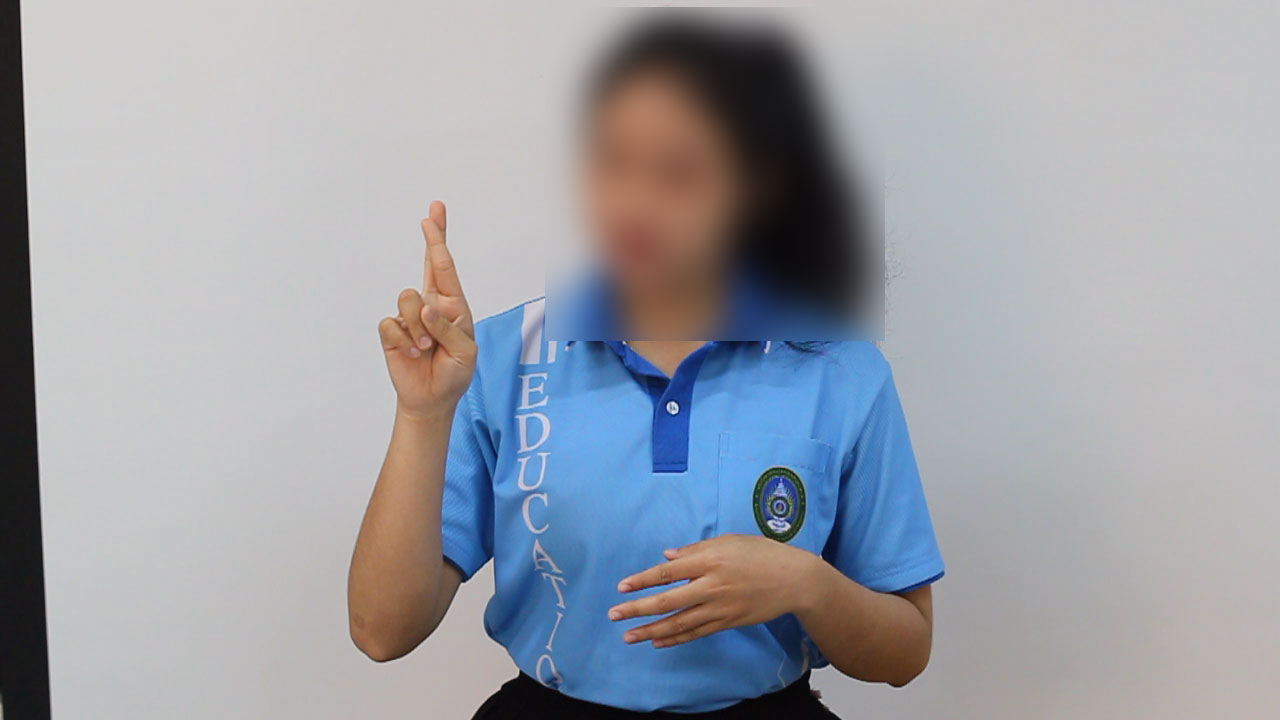rao: (364, 194, 498, 434)
